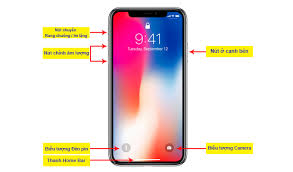iphone: (107, 3, 189, 165)
iphone10: (108, 3, 190, 165)
